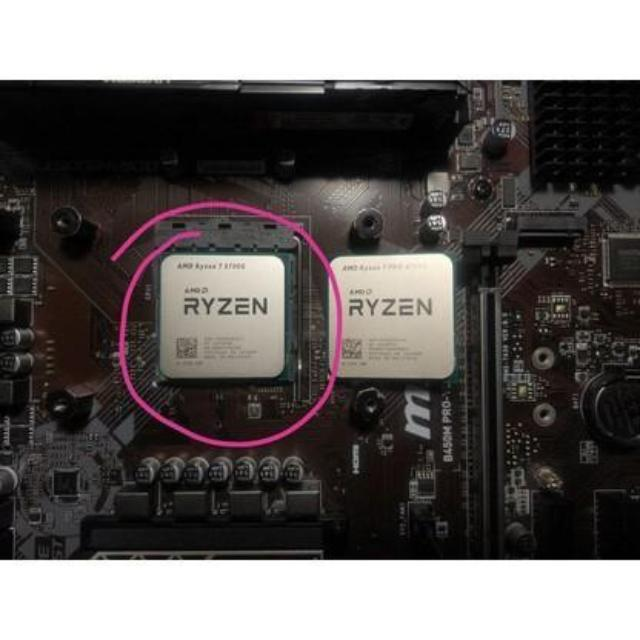CPU: (158, 250, 288, 387), (326, 250, 454, 382)
